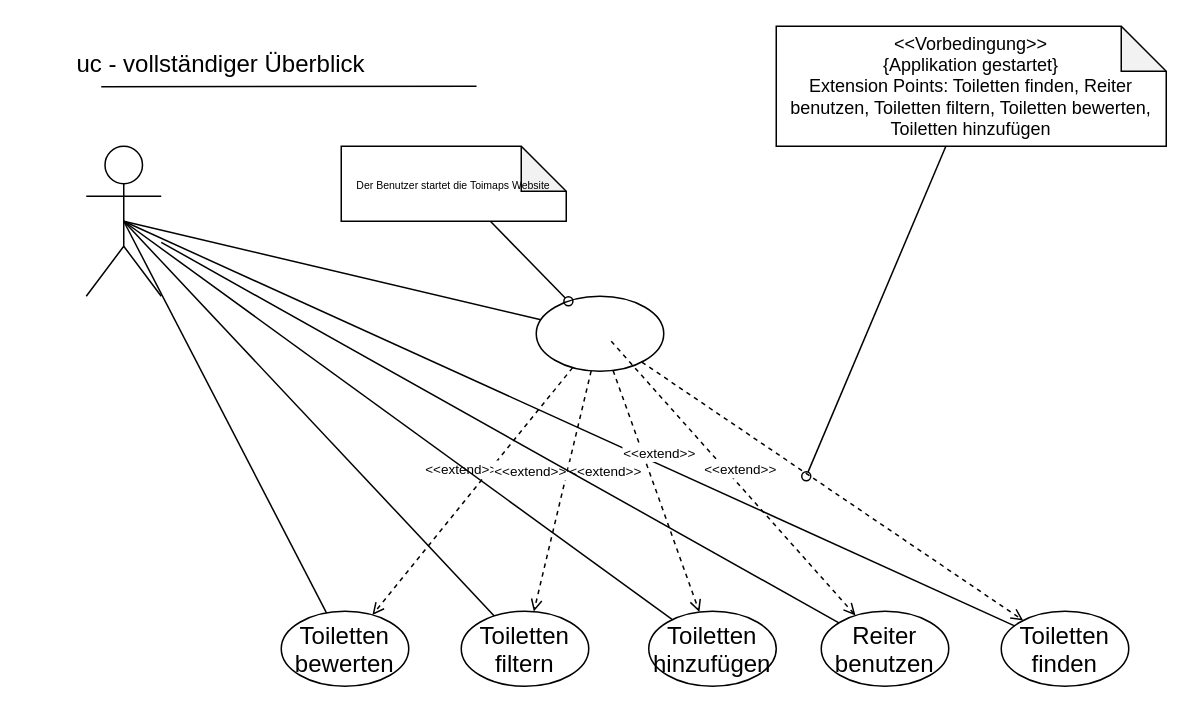
Some shapes in this 1193 by 713 pixel diagram are drawn without their labels. The shapes that lost their labels are listed below. From the top down, each one's centre as x and y in pixels, then its label:
point (123, 220): Benutzer
point (599, 333): Website aufrufen
